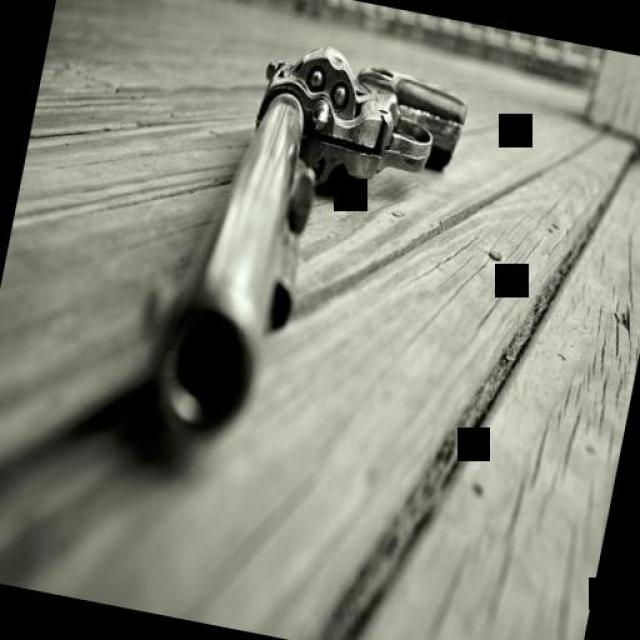gun: (127, 21, 475, 485)
